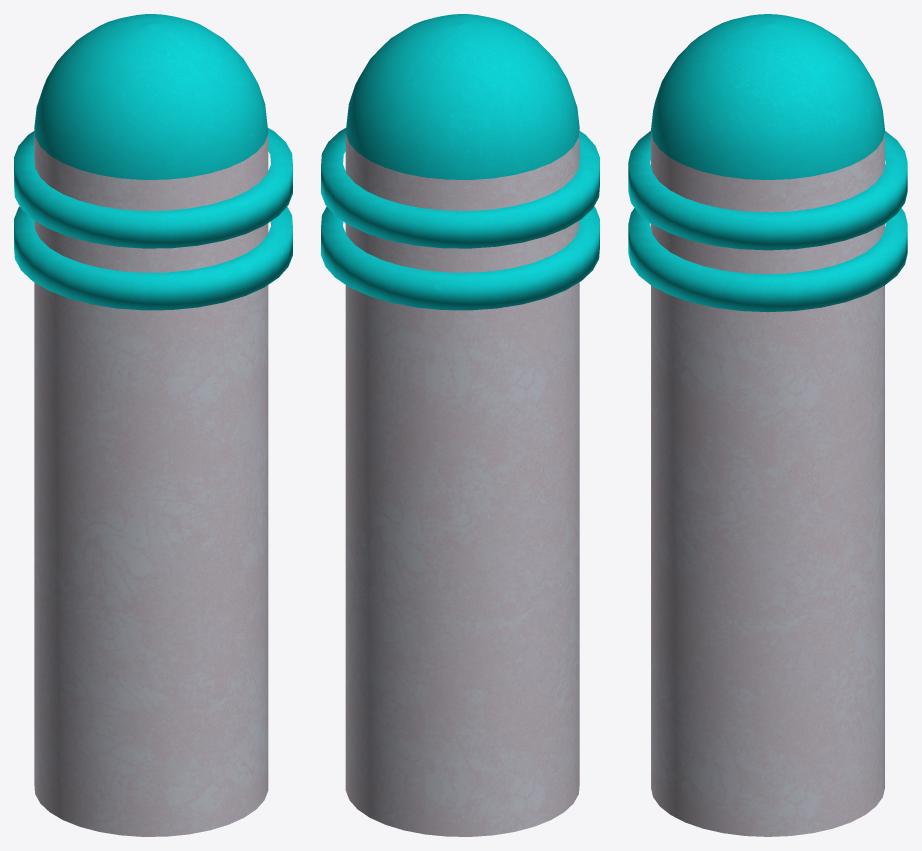
The model's file is Building01_tower1.gltf.
3 views of the same model, side by side, from view 1: azimuth 30°, elevation 25°; view 2: azimuth 150°, elevation 25°; view 3: azimuth 270°, elevation 25° (orthographic).
Parts seen in each view (by area): view 1: Building01_tower1(Clone); view 2: Building01_tower1(Clone); view 3: Building01_tower1(Clone).
Part boxes in pixels (bbox=[...]): Building01_tower1(Clone): bbox=[14, 14, 292, 836]; Building01_tower1(Clone): bbox=[321, 14, 599, 836]; Building01_tower1(Clone): bbox=[628, 14, 907, 836].
Bounding box in the file's own units: 2.13 × 6.41 × 2.13.
2 materials, 2 textured.
